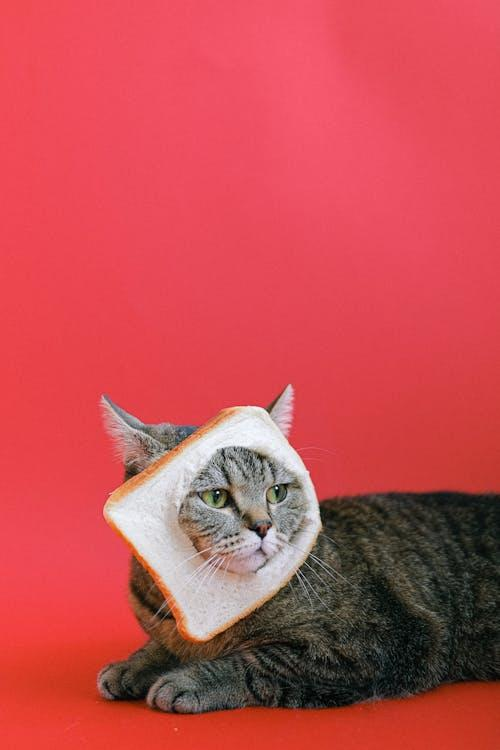kedo: (100, 385, 500, 715)
